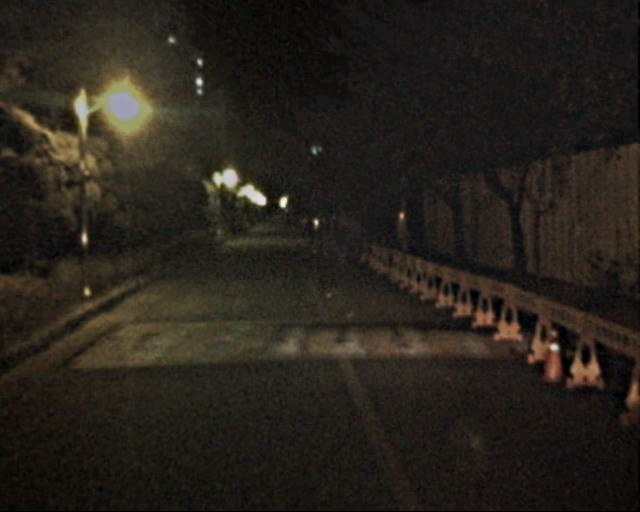person: (332, 216, 351, 263), (346, 213, 365, 259), (322, 214, 339, 256), (313, 212, 330, 253), (302, 216, 316, 251)
